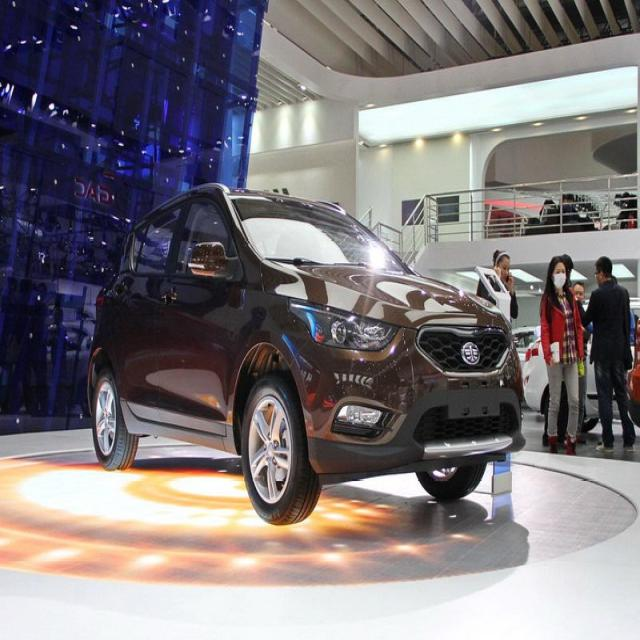back_right_side_light: (95, 286, 109, 318)
door: (127, 203, 188, 418)
front_bumper: (287, 321, 525, 486)
front_glass: (230, 195, 412, 275)
front_right_side_door: (152, 188, 234, 440)
front_right_side_light: (286, 294, 400, 354)
front_right_side_mirror: (186, 240, 238, 281)
wheel: (239, 372, 322, 525), (92, 371, 138, 470), (412, 456, 486, 501)
